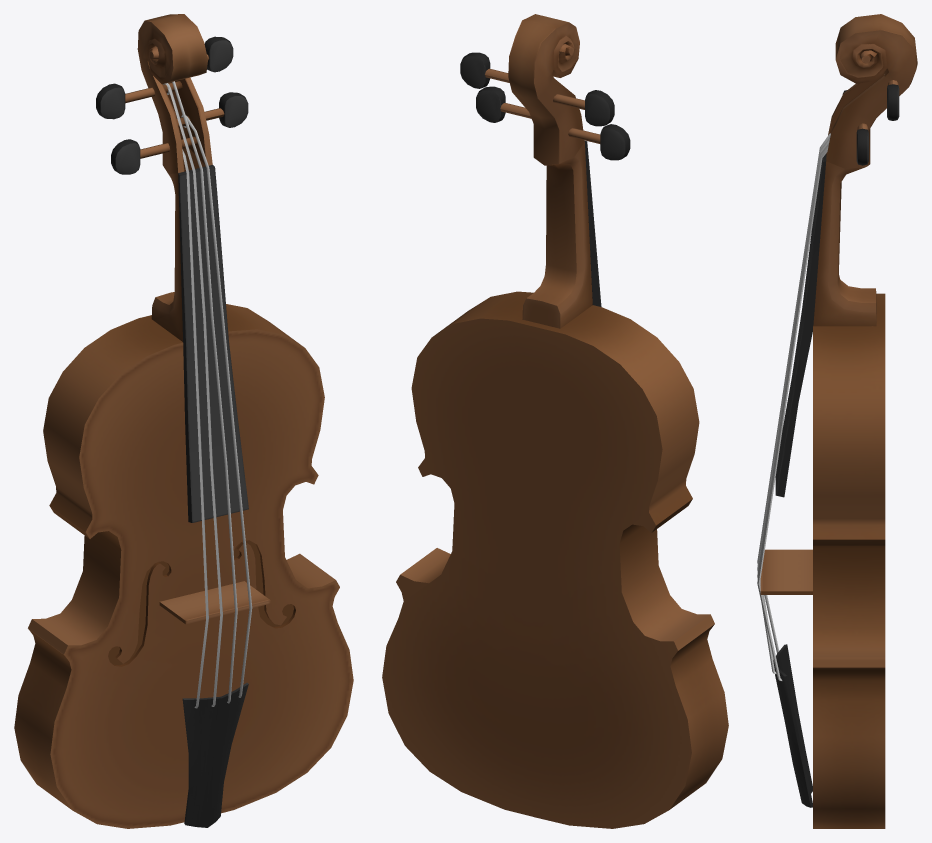
The model's file is ENV2010027.fbx.
The picture shows the model from 3 angles, left to right: view 1: azimuth 30°, elevation 25°; view 2: azimuth 150°, elevation 25°; view 3: azimuth 270°, elevation 25°; orthographic projection. The views are drawn at different scales.
Visible parts, largest first — view 1: smENV2010027; view 2: smENV2010027; view 3: smENV2010027.
Part boxes in pixels (box(x1,y1,x2,y2)): smENV2010027: box(14, 14, 353, 828); smENV2010027: box(382, 14, 728, 828); smENV2010027: box(757, 14, 917, 828).
Size of the model in its own units: 18.47 by 45.43 by 8.46.
Materials: 1 (1 with a texture image).
